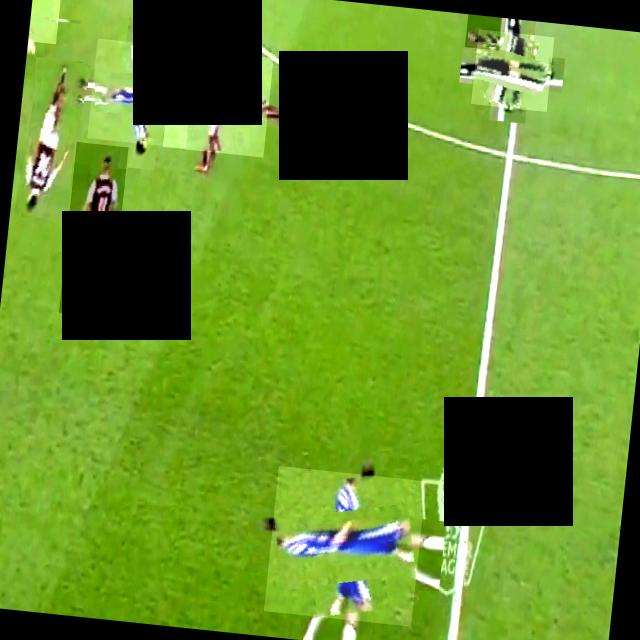referee: (471, 28, 554, 112)
soccer-player: (264, 466, 426, 626), (58, 142, 128, 318), (162, 47, 273, 157), (86, 38, 196, 148), (15, 56, 87, 222), (27, 0, 60, 44), (464, 14, 502, 50)
